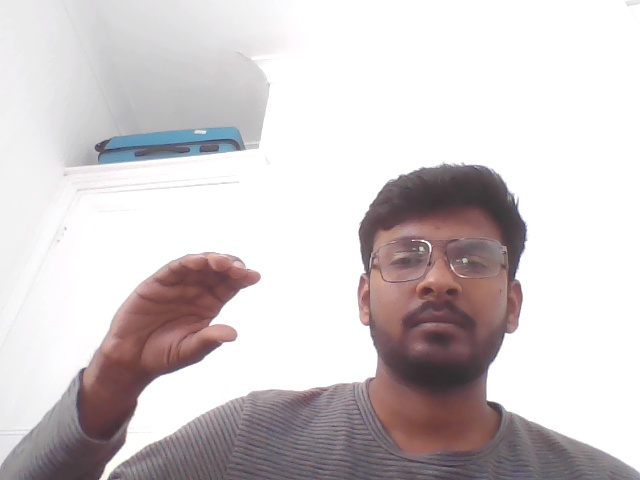No: (88, 211, 283, 446)
